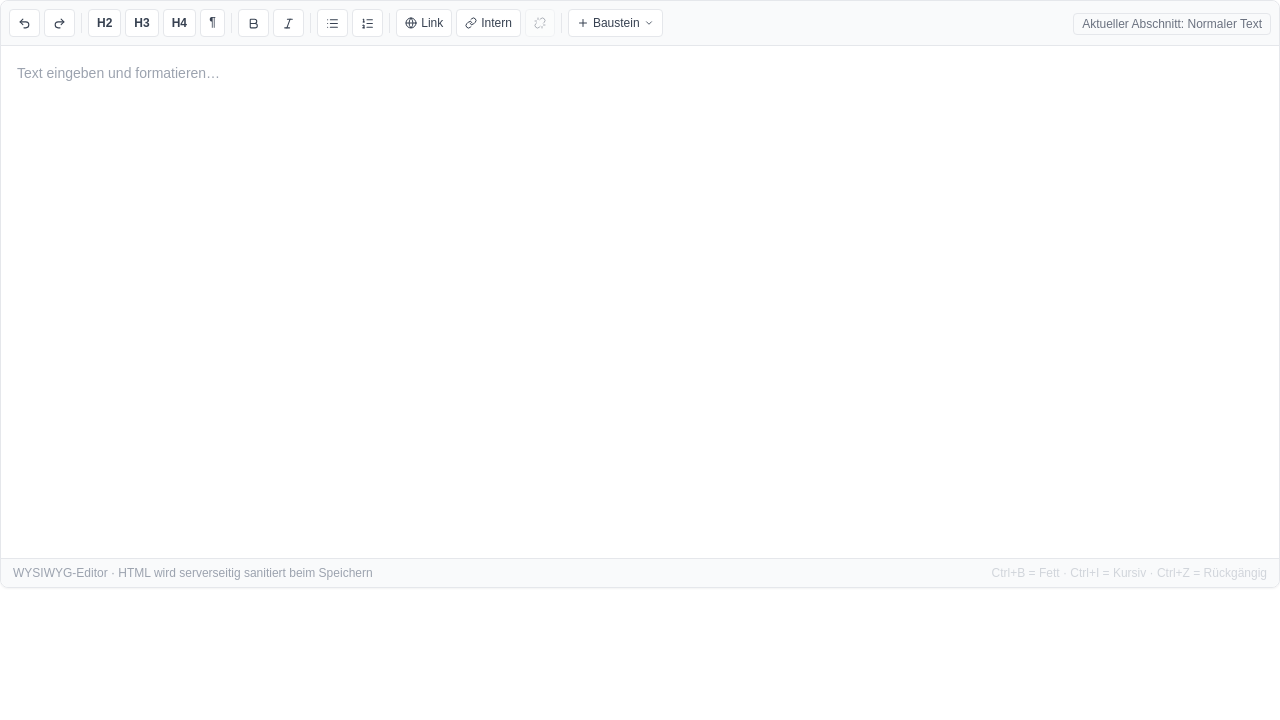
it: AdminRichTextEditor: Link-Panel › Internes Link-Panel zeigt anderen Placeholder
Press the mouse on the button titled "Interner Link" at (489, 23), box [456,9,521,37]
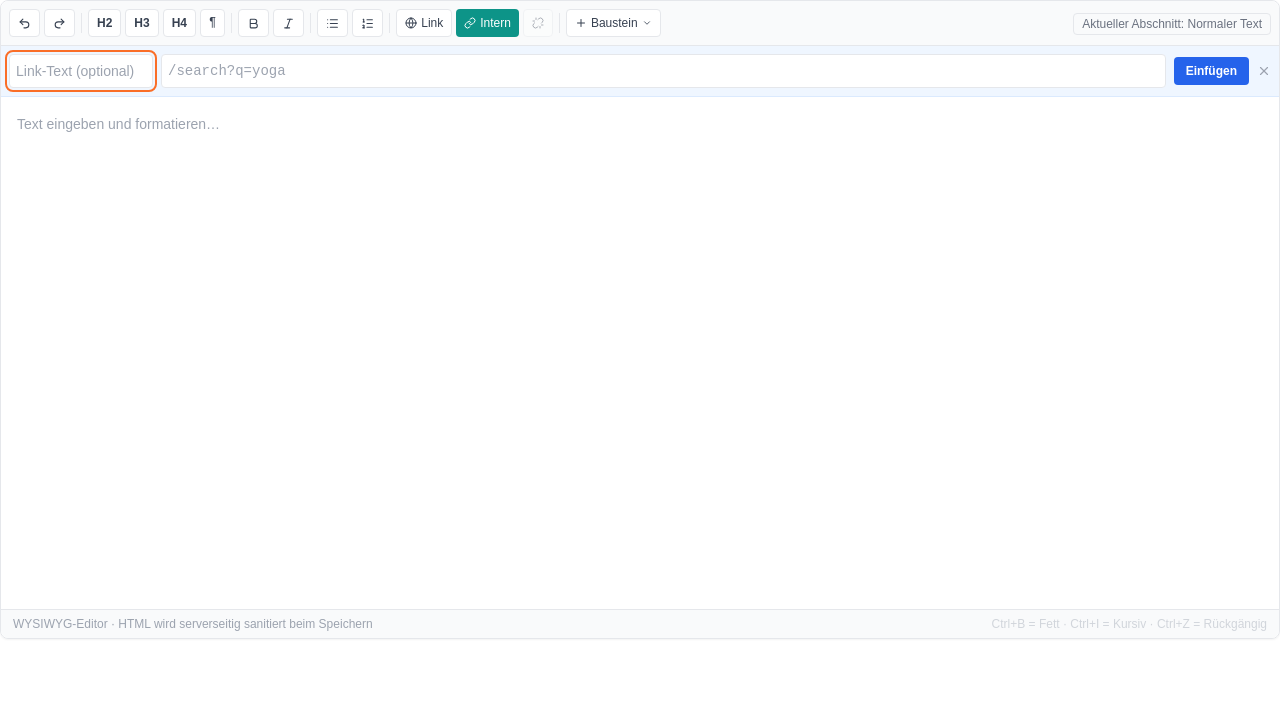
expect the field with placeholder "/search?q=yoga" is shown: met, box [161,54,1166,88]
